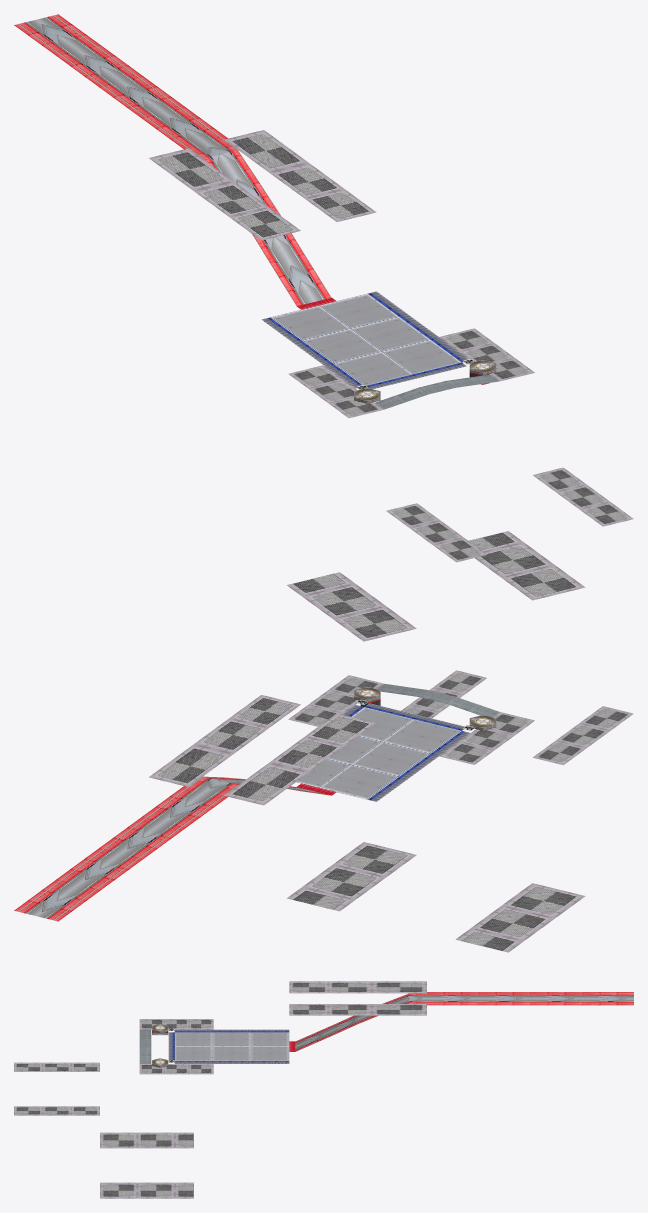
File: S13_ONS_19.OBJ
The picture shows the model from 3 angles, top to bottom: view 1: azimuth 30°, elevation 25°; view 2: azimuth 150°, elevation 25°; view 3: azimuth 270°, elevation 25°; orthographic projection. The views are drawn at different scales.
Parts seen in each view (by area): view 1: s13_ons_19_0, s13_ons_19_1, s13_ons_19_10, s13_ons_19_9, s13_ons_19_7; view 2: s13_ons_19_0, s13_ons_19_1, s13_ons_19_10, s13_ons_19_9, s13_ons_19_7, s13_ons_19_6; view 3: s13_ons_19_0, s13_ons_19_1, s13_ons_19_10, s13_ons_19_9, s13_ons_19_7.
Boxes of the visible parts, x1,y1,x2,y2 form: s13_ons_19_0: (149, 130, 633, 641); s13_ons_19_1: (14, 14, 331, 306); s13_ons_19_10: (270, 293, 461, 385); s13_ons_19_9: (261, 291, 468, 389); s13_ons_19_7: (375, 374, 499, 409); s13_ons_19_0: (149, 670, 633, 952); s13_ons_19_1: (14, 776, 330, 921); s13_ons_19_10: (296, 707, 461, 799); s13_ons_19_9: (342, 703, 470, 801); s13_ons_19_7: (377, 683, 499, 717); s13_ons_19_6: (354, 687, 496, 727); s13_ons_19_0: (14, 981, 426, 1198); s13_ons_19_1: (295, 992, 633, 1051); s13_ons_19_10: (174, 1032, 289, 1061); s13_ons_19_9: (168, 1029, 289, 1063); s13_ons_19_7: (139, 1029, 151, 1063).
Bounding box in the file's own units: 500 × 590 × 1986.
11 materials, 11 textured.
